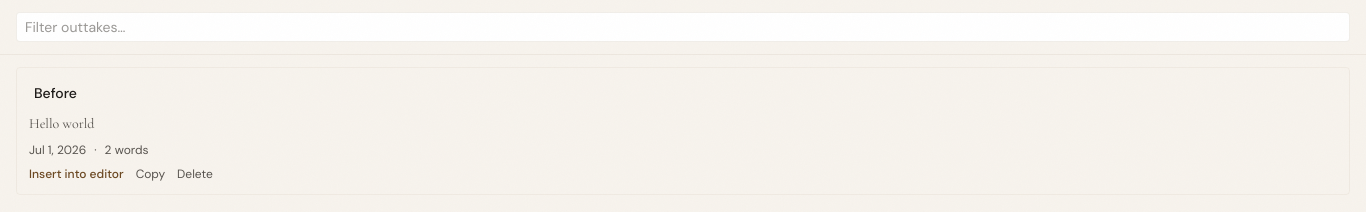
Scenario: OuttakesPanel › says why the card vanished when a rename 404s (I3)
This screenshot has width=1366, height=212.
Replace the text in the field showing "Before" with "After" at [683, 93], box 29,80 -> 1337,106
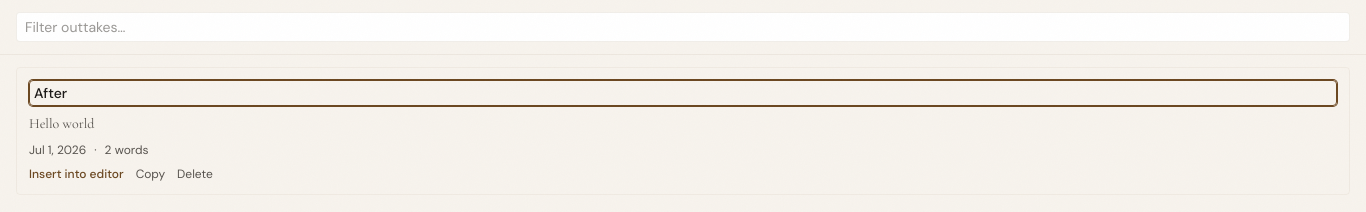
Press Tab
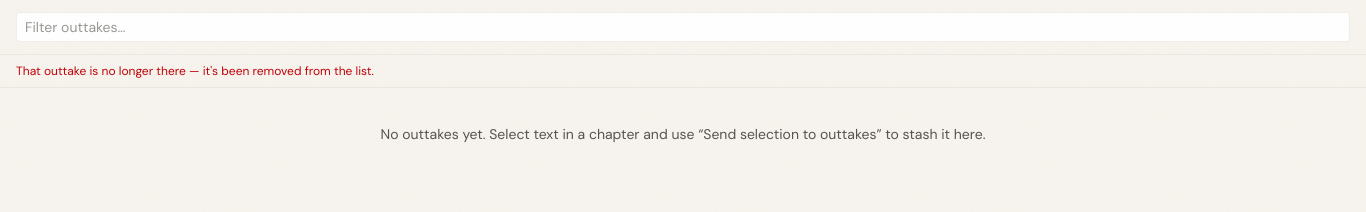
expect the field showing "Before" is not shown: met
expect the text "That outtake is no longer there — it's been removed from the list." is shown: met, box 16,63 -> 374,79
